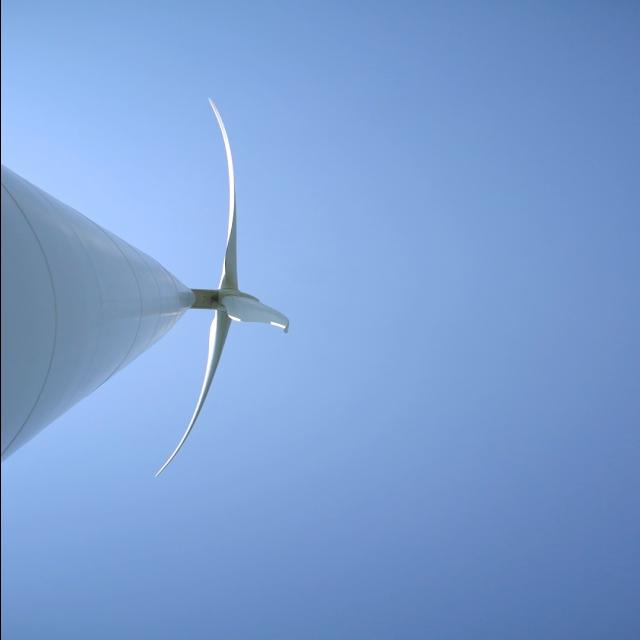blade 1: (181, 346, 219, 434)
blade 2: (213, 80, 241, 284)
blade 3: (236, 299, 303, 381)
